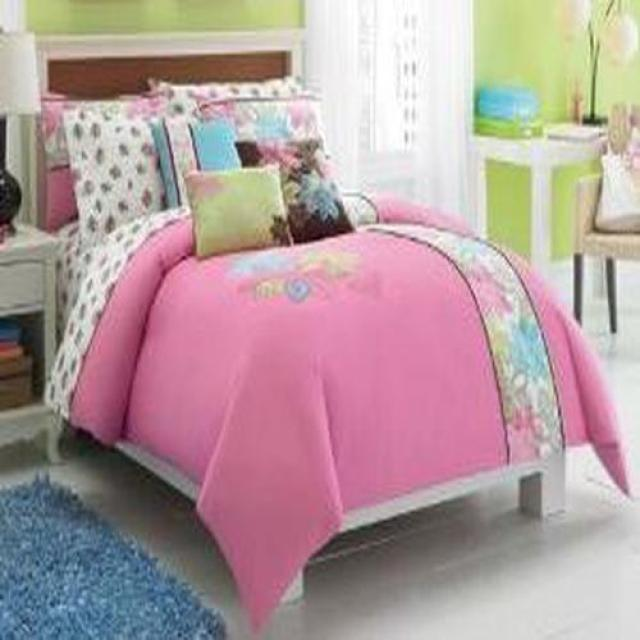bed: (35, 32, 632, 640)
